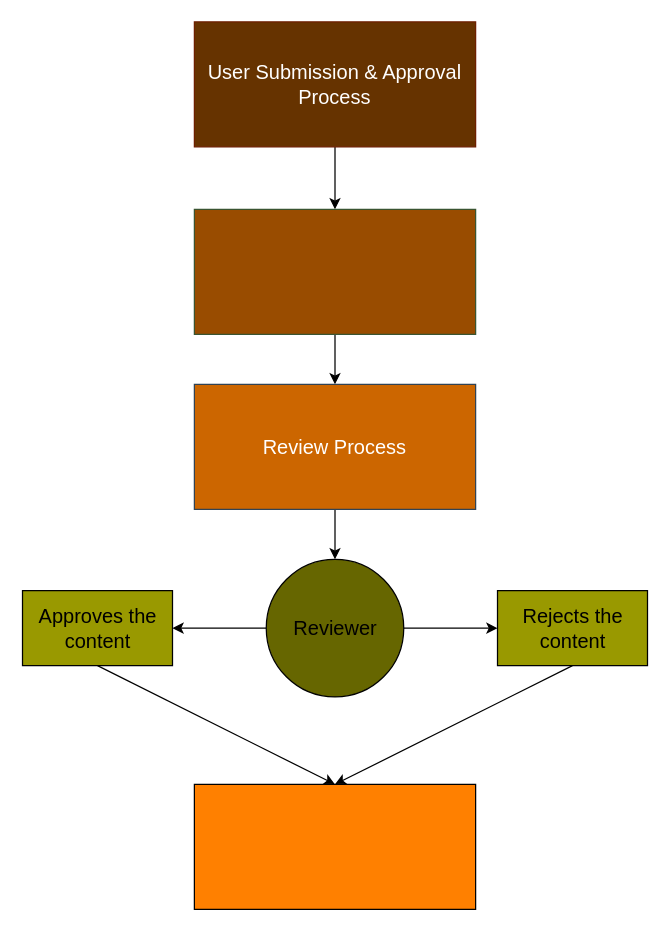
Some shapes in this 669 by 931 pixel diagram are drawn without their labels. The shapes that lost their labels are listed below. From the top down, each one's box as (x1, y1, x2, y2) in pixels, then its label:
(193, 208, 476, 334): User Creates & Submits Content
(193, 783, 476, 909): Process Complete
